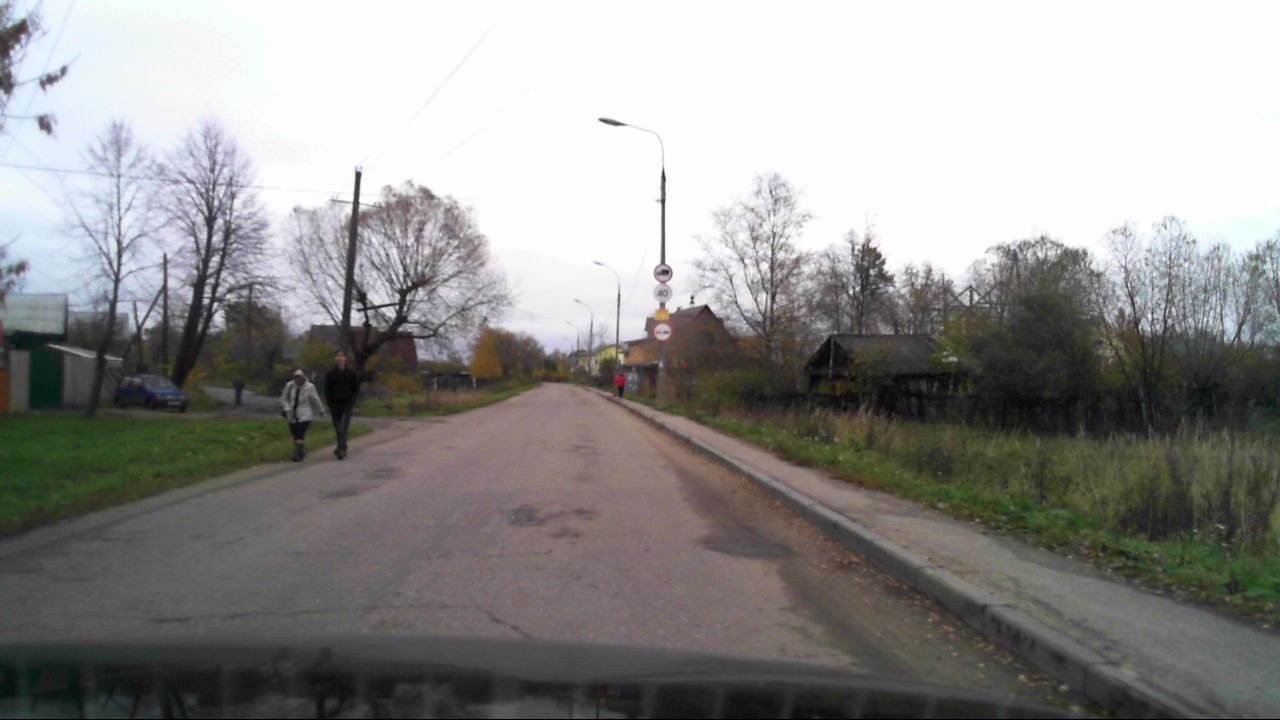speed_warning_40: (654, 283, 673, 302)
